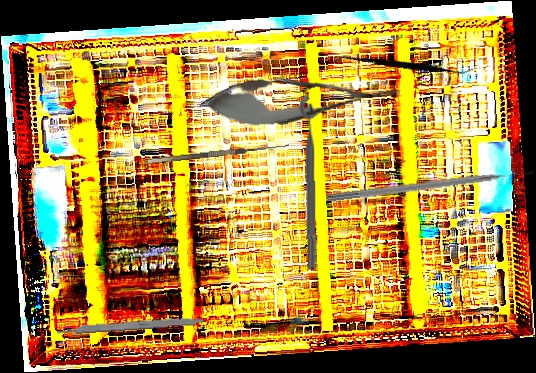Fixation Ring: (298, 93, 332, 270)
Hook Surgical: (147, 136, 290, 164)
Micro Scissor: (198, 67, 405, 131)
Pusher: (325, 168, 534, 205)
Scalpel Handle: (56, 314, 207, 336)
Spatula Surgical: (331, 6, 475, 126)
